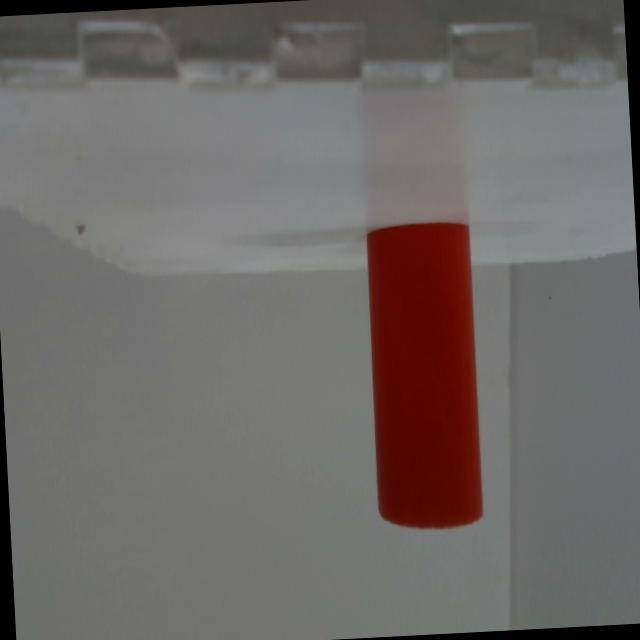red_cylinder: (364, 219, 488, 534)
